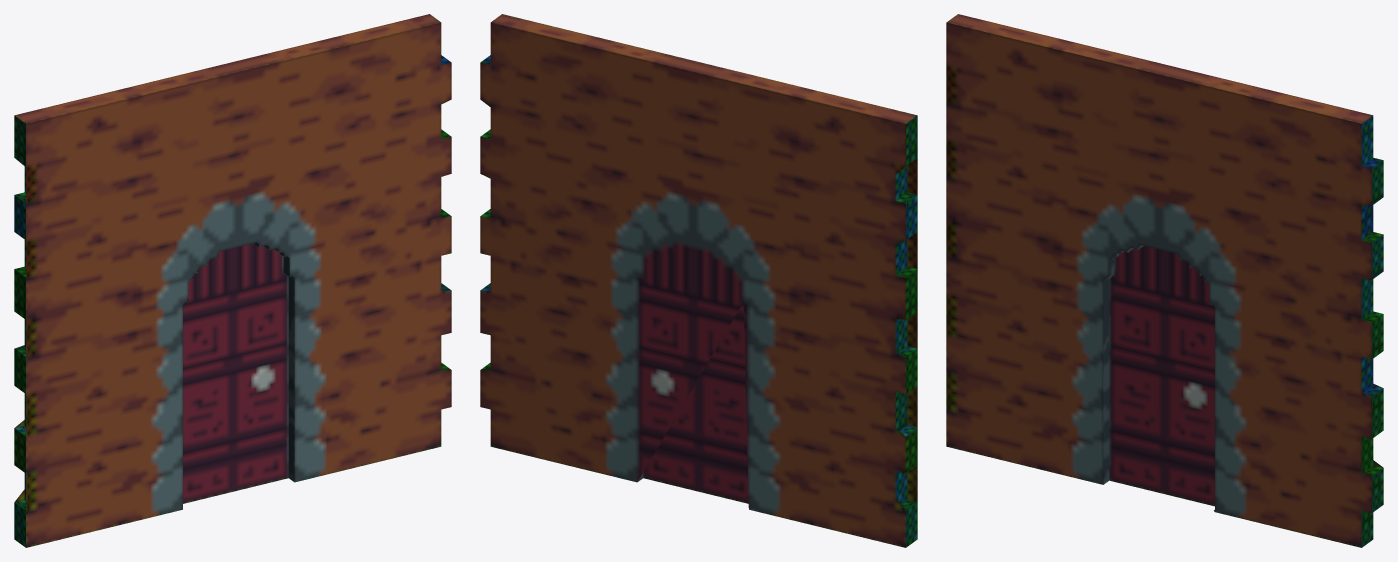
Rendered from SM_WallWithDoor.fbx.
The picture shows the model from 3 angles, left to right: view 1: azimuth 30°, elevation 25°; view 2: azimuth 150°, elevation 25°; view 3: azimuth 330°, elevation 25°; orthographic projection.
Visible parts, largest first — view 1: BasicWallWithDoor; view 2: BasicWallWithDoor; view 3: BasicWallWithDoor.
Part boxes in pixels (box(x1,y1,x2,y2)): BasicWallWithDoor: box(14, 14, 451, 547); BasicWallWithDoor: box(480, 14, 917, 547); BasicWallWithDoor: box(946, 14, 1383, 547).
Bounding box in the file's own units: 840 × 800 × 40.
